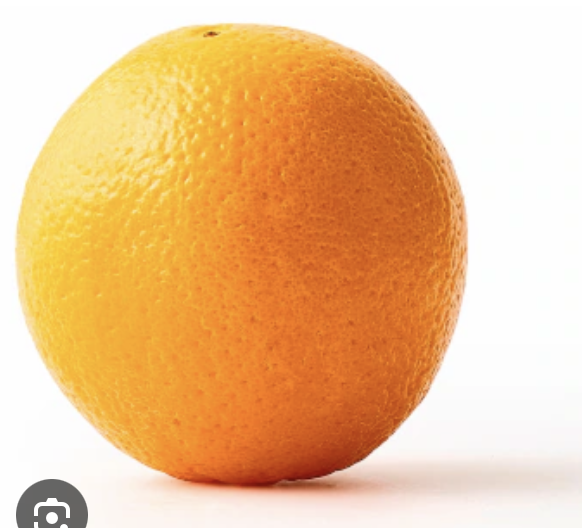orange: (0, 8, 513, 528)
